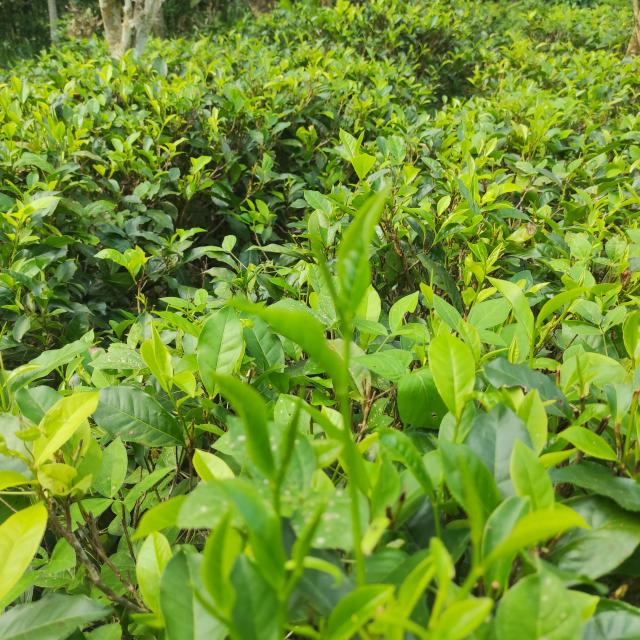unopened_leaf: (262, 380, 312, 504), (300, 212, 354, 324), (281, 494, 339, 586)
